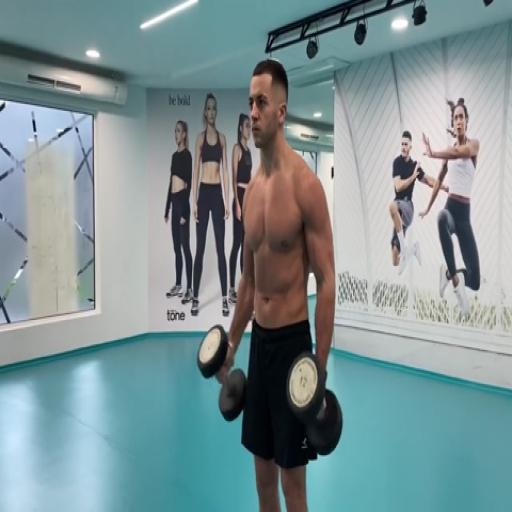exercise: (211, 57, 344, 510), (417, 96, 484, 322)
